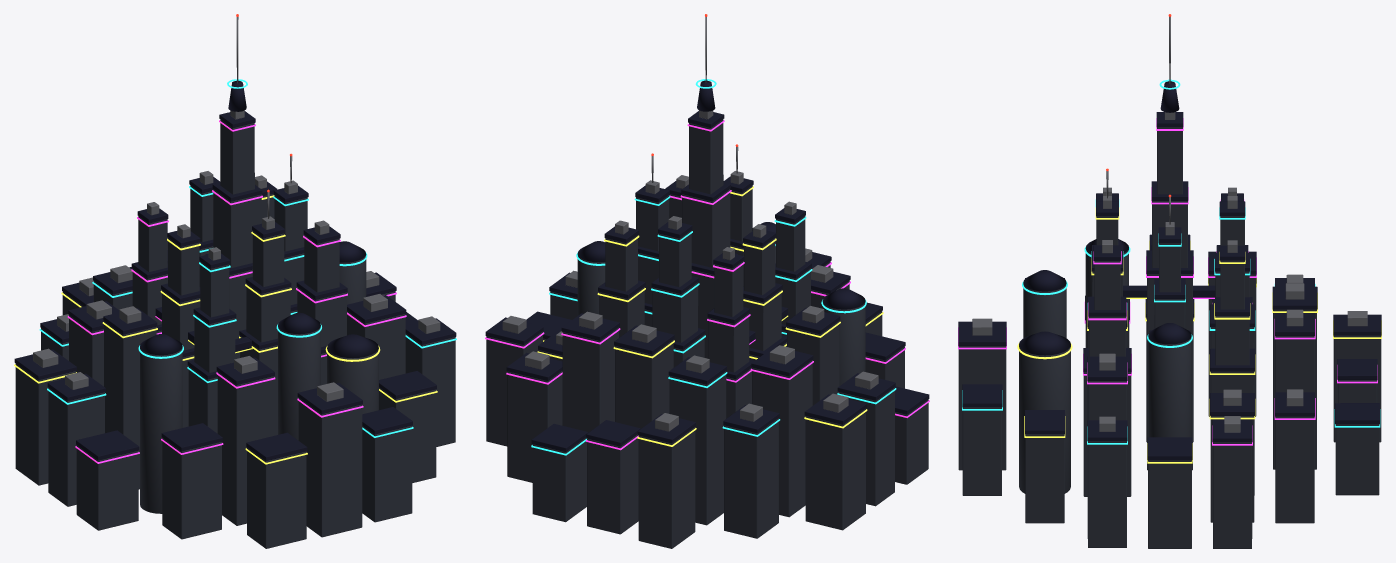
The model's file is city.glb.
3 renders of one model, left to right at view 1: azimuth 30°, elevation 25°; view 2: azimuth 150°, elevation 25°; view 3: azimuth 270°, elevation 25°, orthographic.
Visible parts, largest first — view 1: City.001; view 2: City.001; view 3: City.001.
Boxes of the visible parts, bbox=[...] form: City.001: bbox=[14, 14, 456, 548]; City.001: bbox=[485, 14, 929, 548]; City.001: bbox=[958, 14, 1381, 548].
Size of the model in its own units: 18.24 by 21.28 by 18.31.
